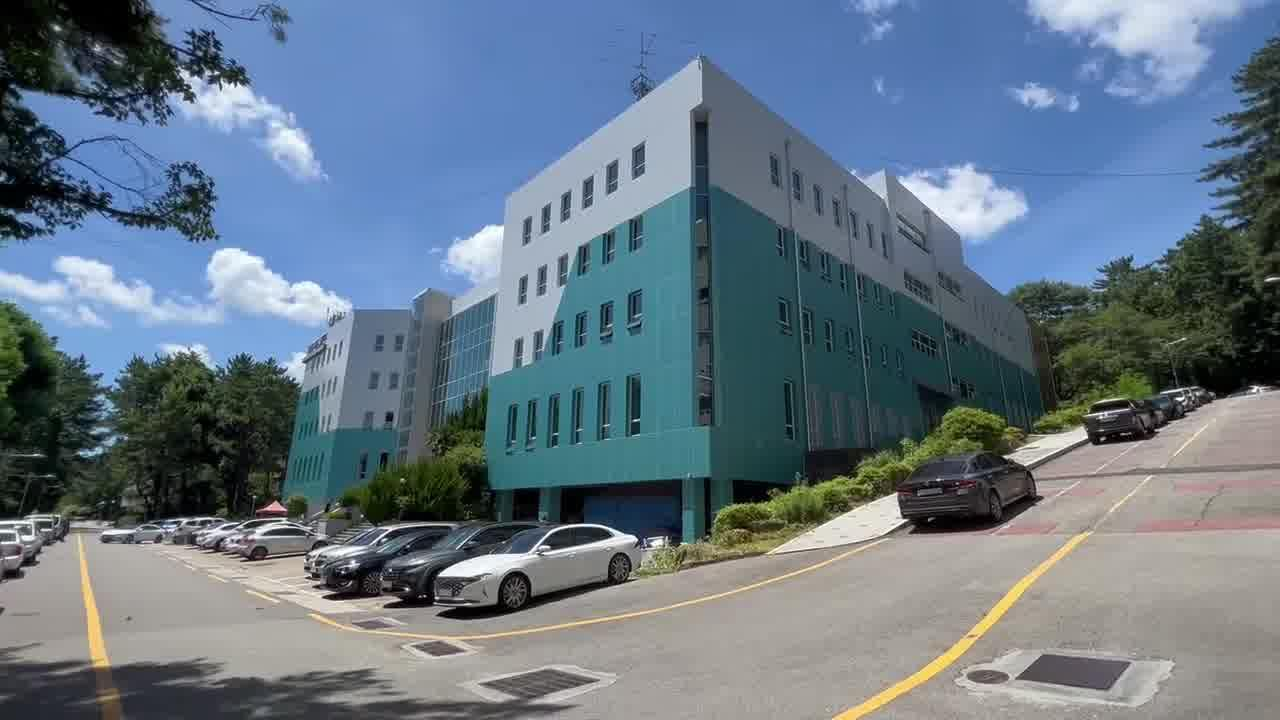building: (290, 96, 917, 473)
